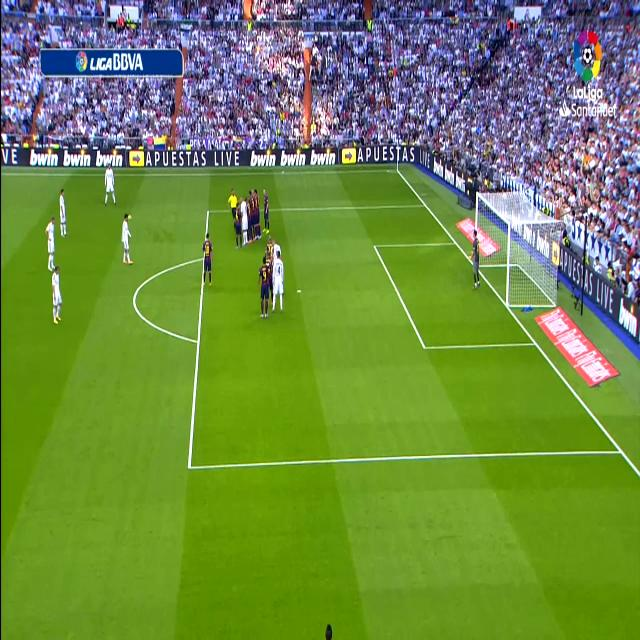bigarea_bottom_inner: (419, 333, 429, 358)
bigarea_top_inner: (205, 204, 210, 216)
bigarea_top_outter: (422, 197, 428, 210)
bottom_arc_area_intersection: (616, 439, 626, 462)
corner: (392, 165, 400, 175)
smallarea_bottom_outter: (531, 332, 539, 352)
smallarea_top_outter: (452, 234, 458, 248)
